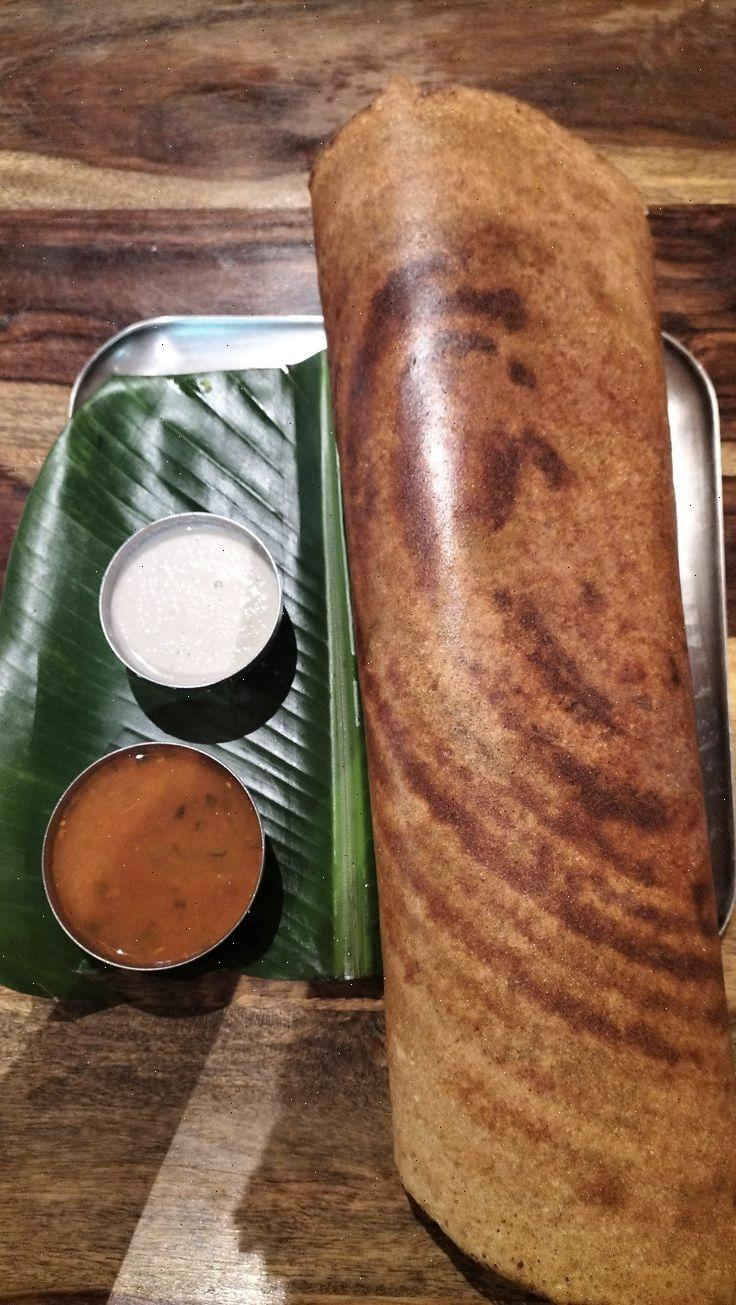dosa: (288, 76, 736, 1295)
